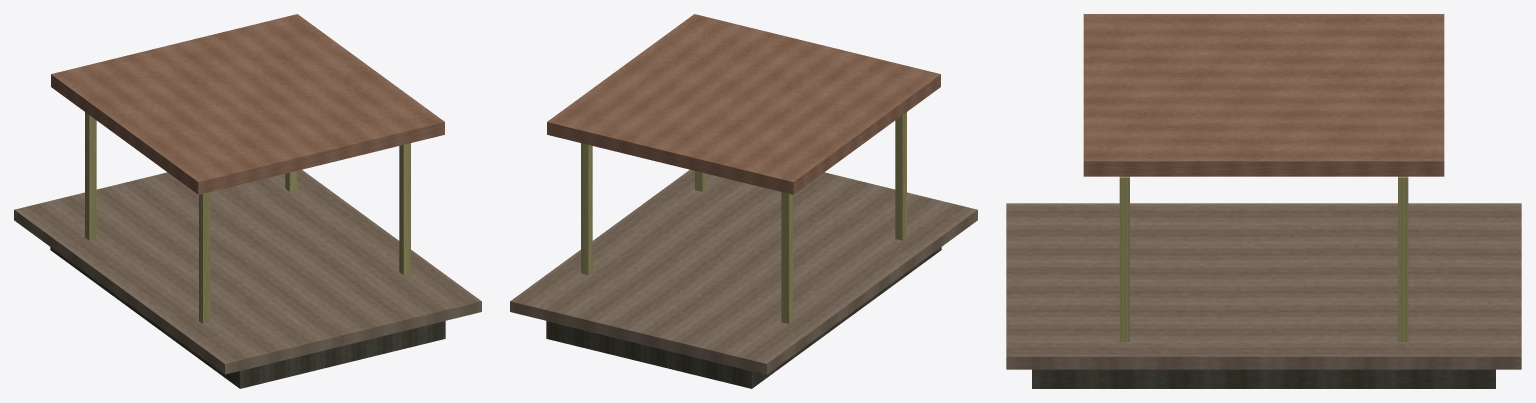
File: bung-raft-0-rust-lod.glb
The picture shows the model from 3 angles, left to right: view 1: azimuth 30°, elevation 25°; view 2: azimuth 150°, elevation 25°; view 3: azimuth 270°, elevation 25°; orthographic projection. The views are drawn at different scales.
Visible parts, largest first — view 1: bung-raft-0-rust-lod; view 2: bung-raft-0-rust-lod; view 3: bung-raft-0-rust-lod.
Part boxes in pixels (left/top/right/bottom): bung-raft-0-rust-lod: left=14, top=14, right=481, bottom=388; bung-raft-0-rust-lod: left=510, top=14, right=977, bottom=388; bung-raft-0-rust-lod: left=1006, top=14, right=1521, bottom=388.
Bounding box in the file's own units: 3.8 × 2.78 × 5.4.
Materials: 1 (1 with a texture image).
